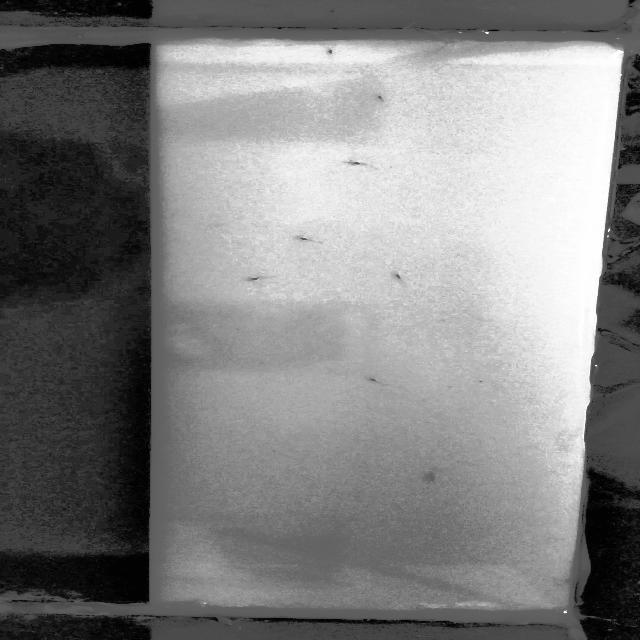shrimp: (336, 156, 376, 169), (414, 470, 443, 483), (358, 374, 384, 386), (296, 232, 318, 245), (244, 273, 266, 285), (387, 271, 410, 282), (320, 44, 334, 60), (368, 91, 388, 101)
